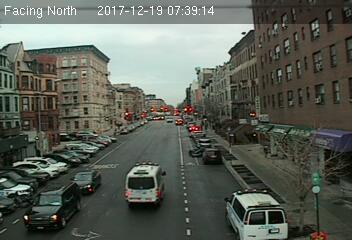car: (20, 182, 82, 226), (71, 168, 104, 195), (204, 147, 221, 164)
police: (223, 188, 290, 240), (124, 160, 168, 208)
